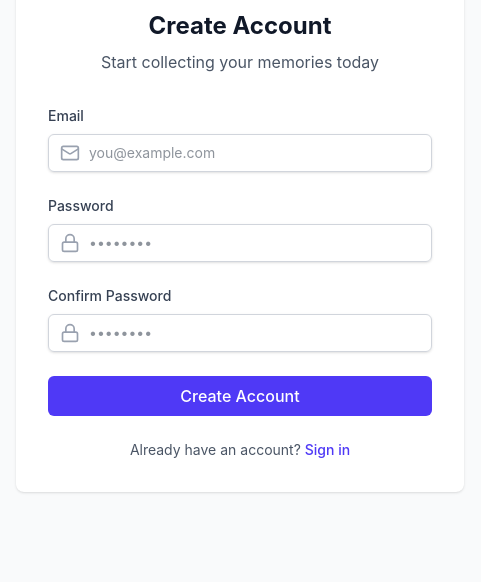
Test case: RegisterForm › shows error from sign up
This screenshot has width=481, height=582.
Type "user@t.com" into the field labelled "Email" at (240, 153), box x1=48 y1=134 x2=432 y2=172
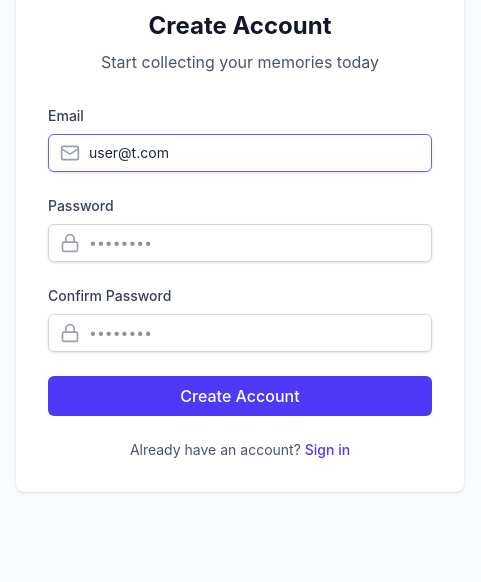
Type "123456" into the password field labelled "Password" at (240, 243), box x1=48 y1=224 x2=432 y2=262
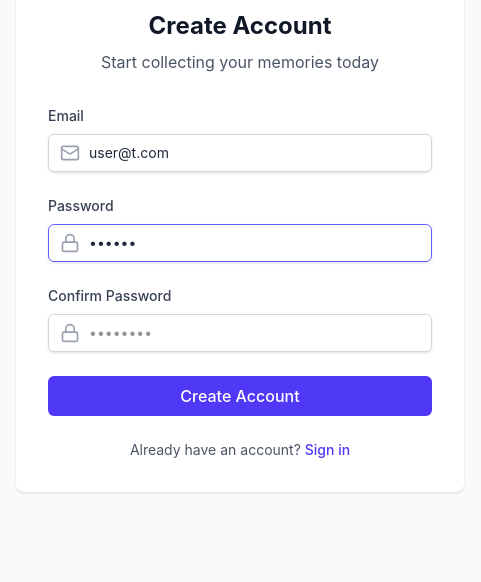
Type "123456" into the password field labelled "Confirm Password" at (240, 333), box x1=48 y1=314 x2=432 y2=352
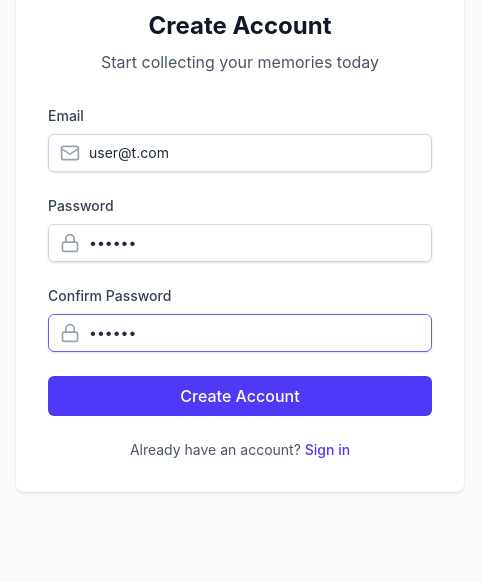
Click the button "Create Account" at (240, 396), box x1=48 y1=376 x2=432 y2=416
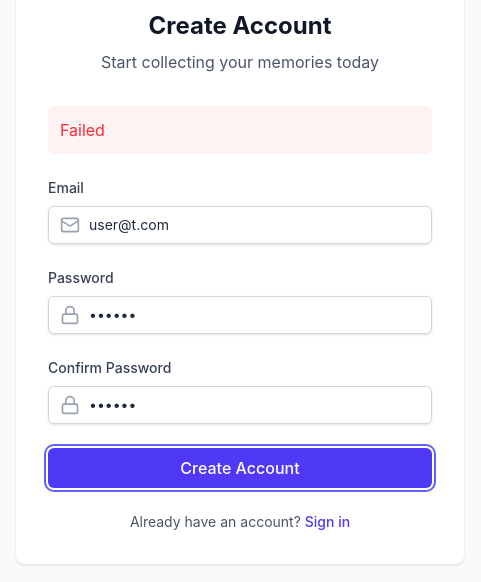
Expected: the text "Failed" is shown, x1=48 y1=106 x2=432 y2=154
